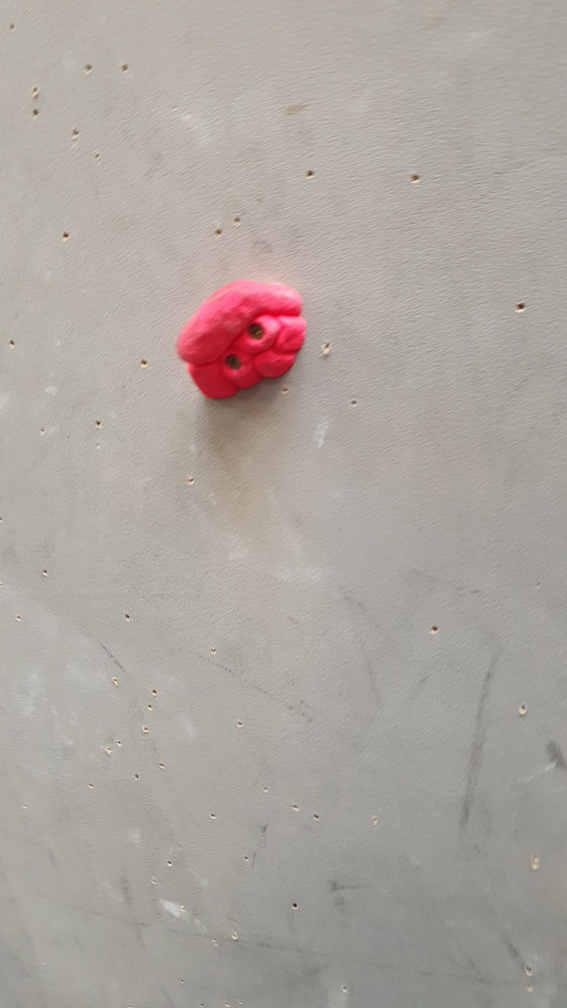Jug: (170, 272, 309, 404)
